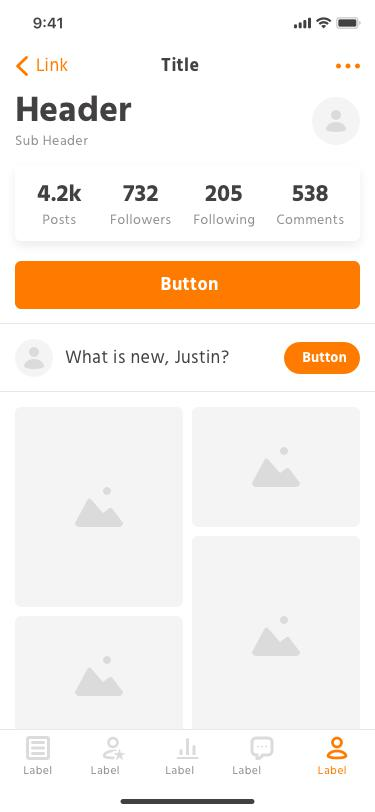Icon: (312, 97, 360, 146), (16, 339, 54, 378), (102, 736, 127, 760), (27, 736, 52, 760), (325, 735, 348, 761), (251, 736, 274, 761), (175, 737, 200, 760), (17, 57, 31, 78), (335, 63, 361, 70)
Image: (15, 407, 183, 607), (192, 536, 360, 729), (192, 407, 360, 527), (15, 616, 184, 730)
Text: (17, 95, 133, 123), (65, 349, 230, 367), (194, 213, 255, 229), (16, 134, 90, 147), (38, 184, 83, 203), (276, 214, 345, 226), (111, 213, 172, 226), (292, 185, 330, 202), (123, 185, 160, 202), (206, 185, 243, 202), (161, 57, 199, 73), (37, 58, 71, 72), (316, 764, 348, 777), (43, 214, 77, 226), (25, 763, 54, 775), (233, 764, 262, 776), (166, 765, 197, 776), (90, 765, 122, 775)
TextButton: (16, 261, 361, 310), (284, 342, 360, 375)
UpperTaskBar: (33, 17, 361, 30)
